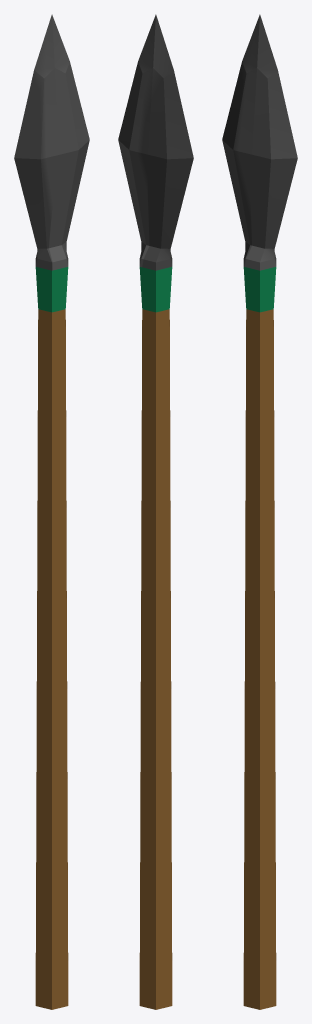
File: Army_Spear.fbx
3 views of the same model, side by side, from view 1: azimuth 30°, elevation 25°; view 2: azimuth 150°, elevation 25°; view 3: azimuth 330°, elevation 25° (orthographic).
Visible parts, largest first — view 1: Spear; view 2: Spear; view 3: Spear.
Boxes of the visible parts, <box> form: Spear: <box>14,14,89,1009</box>; Spear: <box>118,14,193,1009</box>; Spear: <box>222,14,297,1009</box>.
Size of the model in its own units: 0.1365 by 1.7 by 0.051.
